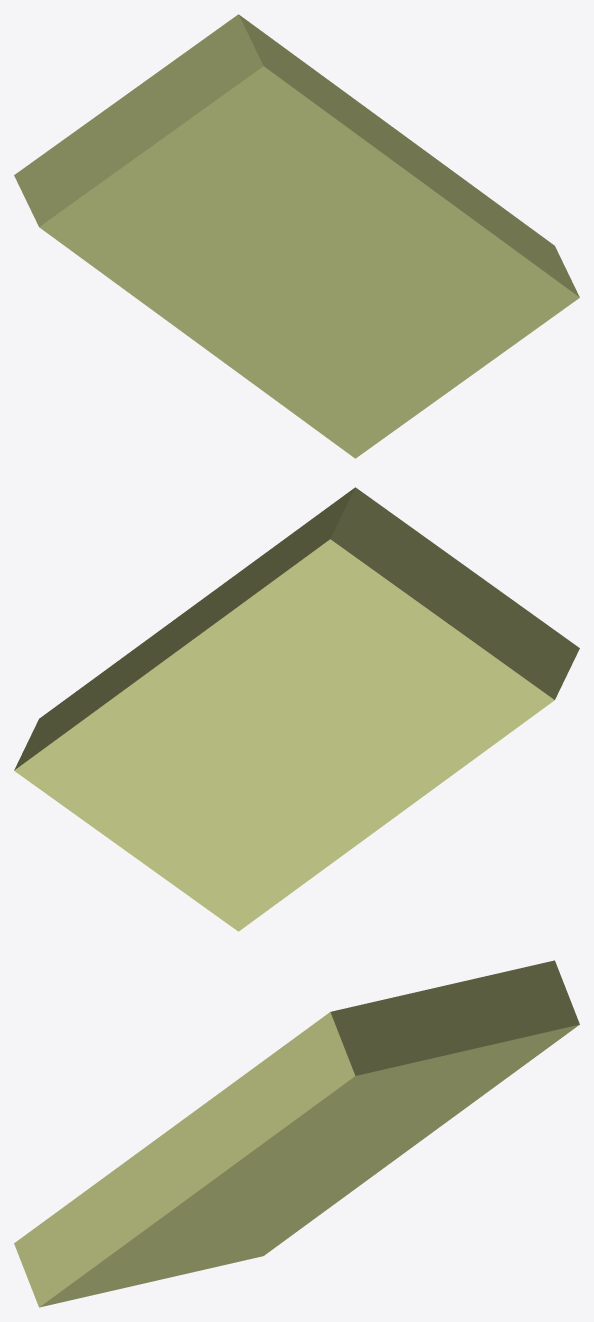
3 renders of one model, top to bottom at view 1: azimuth 30°, elevation 25°; view 2: azimuth 150°, elevation 25°; view 3: azimuth 330°, elevation 25°, orthographic.
Parts seen in each view (by area): view 1: 0_2_2_0_0_0_1_3_0_3; view 2: 0_2_2_0_0_0_1_3_0_3; view 3: 0_2_2_0_0_0_1_3_0_3.
Part boxes in pixels (x1,y1,x2,y2): 0_2_2_0_0_0_1_3_0_3: (14, 14, 579, 458); 0_2_2_0_0_0_1_3_0_3: (14, 487, 579, 931); 0_2_2_0_0_0_1_3_0_3: (14, 960, 579, 1307).
Bounding box in the file's own units: 4.1 × 2.58 × 9.
